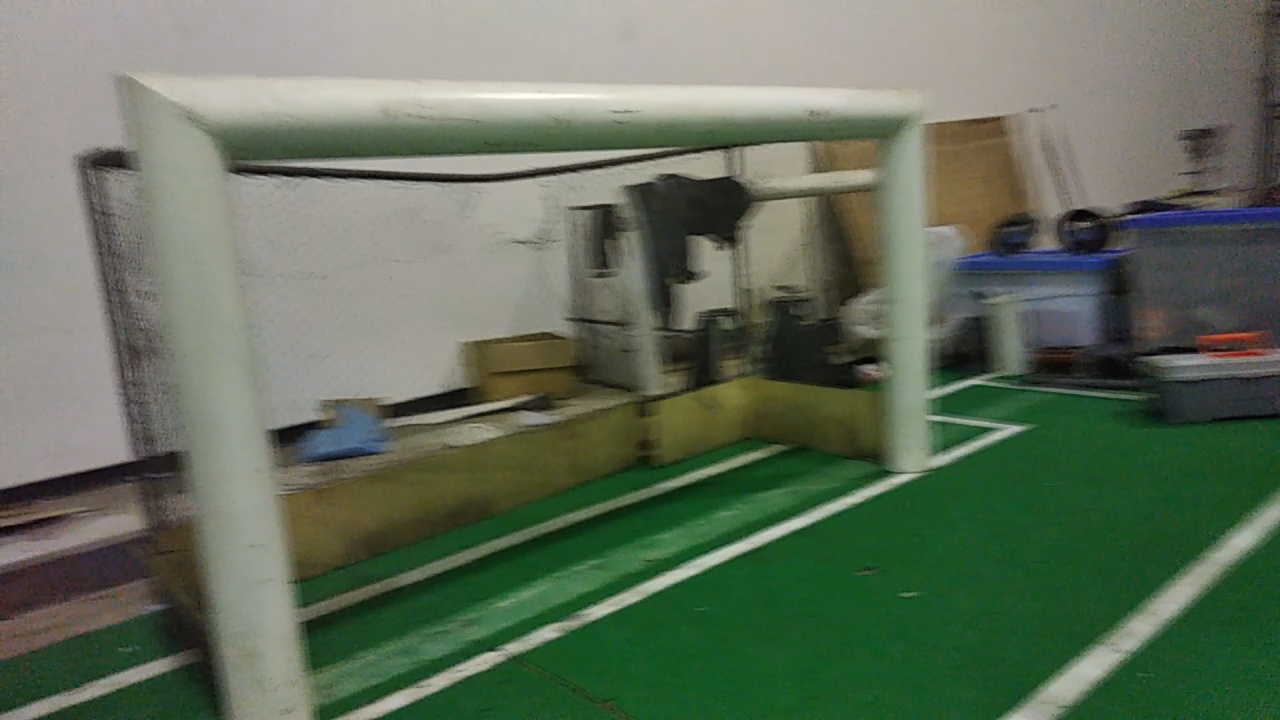gawang: (101, 54, 942, 712)
